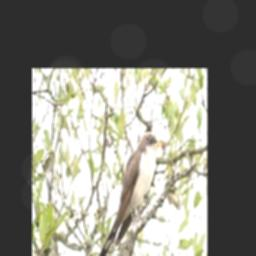Cuckoo: (90, 131, 162, 256)
